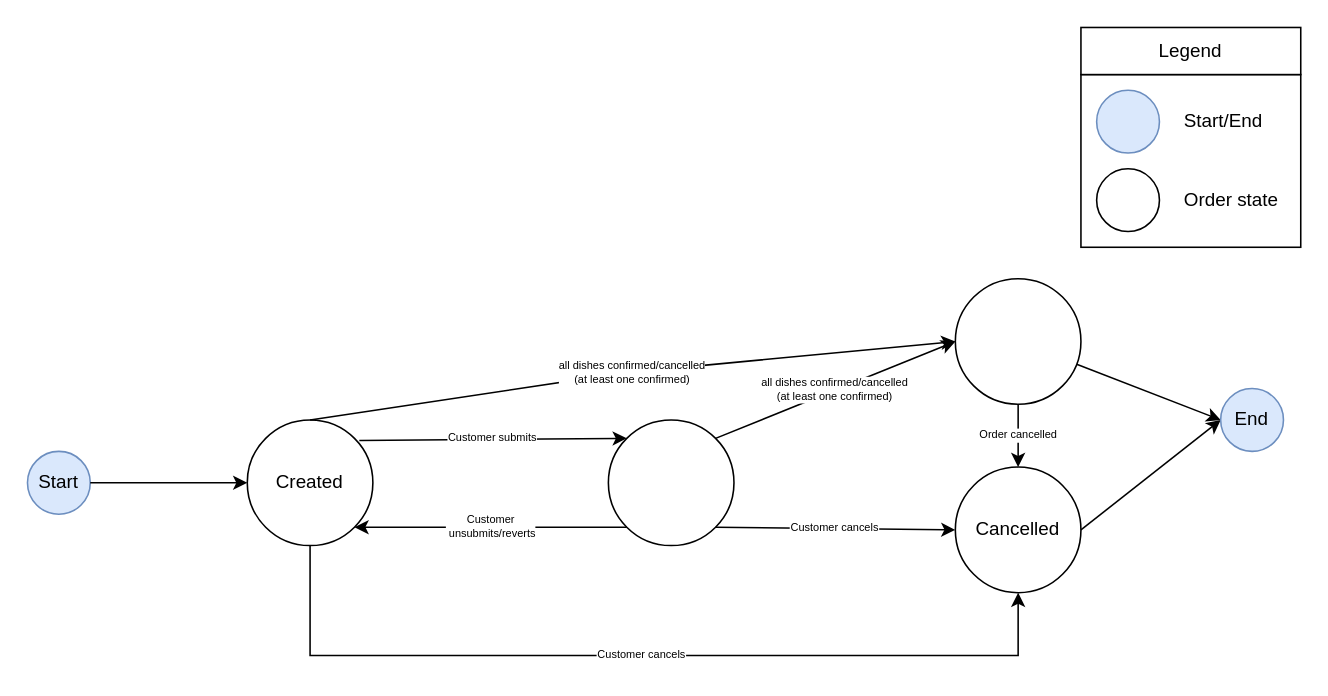
This 1328x696 diagram has some shape labels left out. Here are the shapes that lost their labels. From the top down, the centre of each, then its label:
(1017,340): Submitted
(670,482): Submitted By Customer
